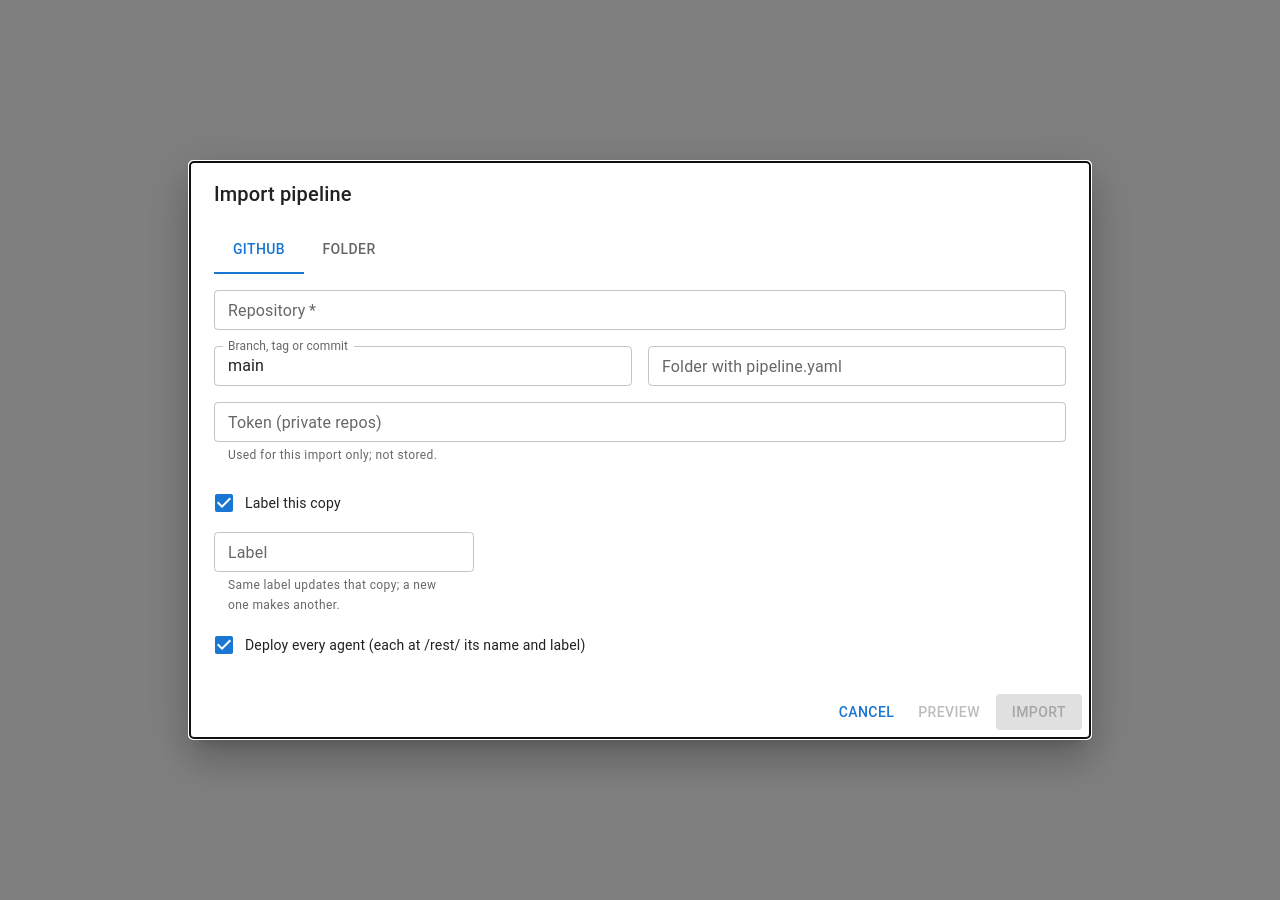
Test case: PipelineImportDialog › says which agents were not deployed before closing
Later steps or results of the test are not shown.
In the field labelled "Repository *": coordinates (640, 310) 214,290 -> 1066,330, type "a/b"
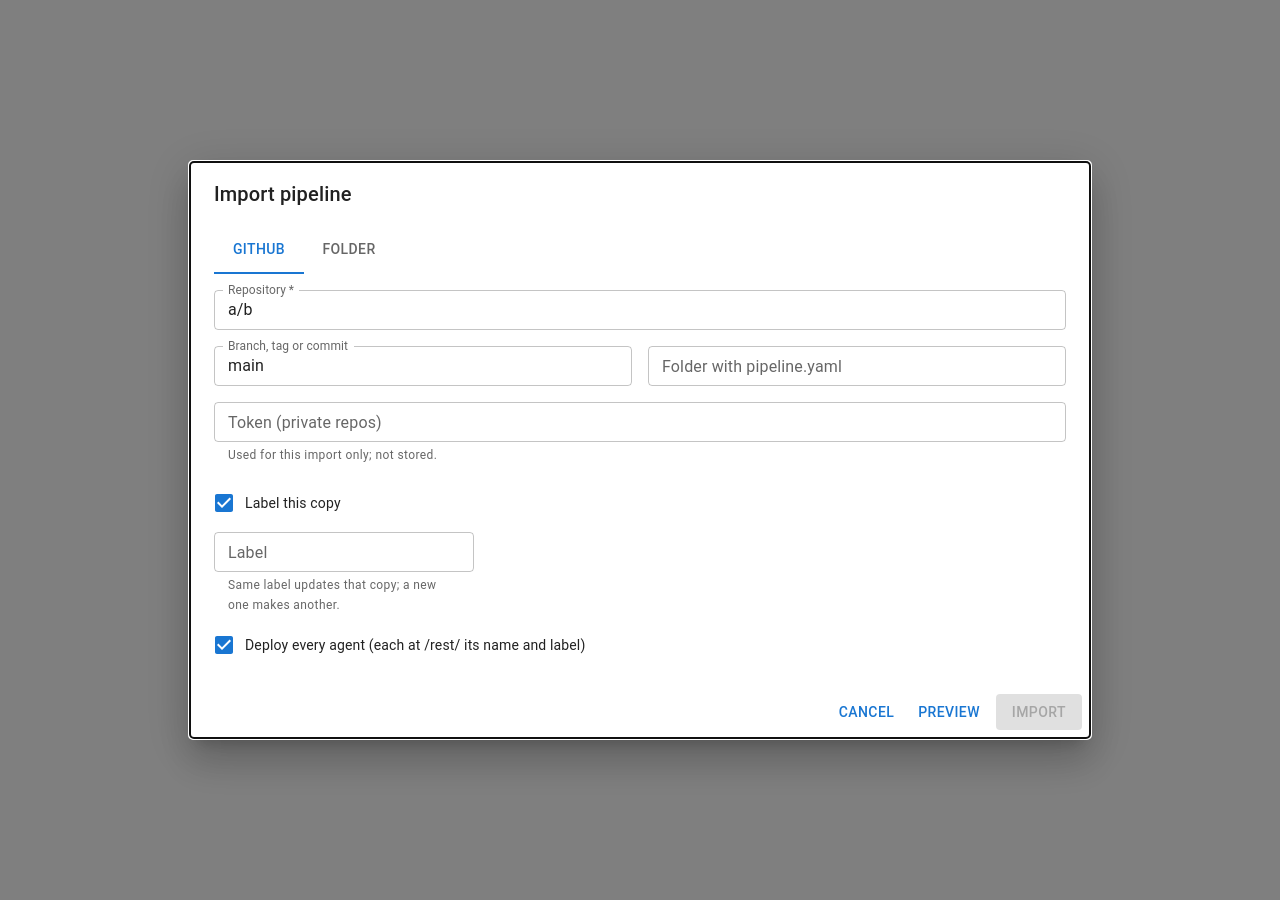
Click the button "Preview": coordinates (949, 712) 910,694 -> 988,730
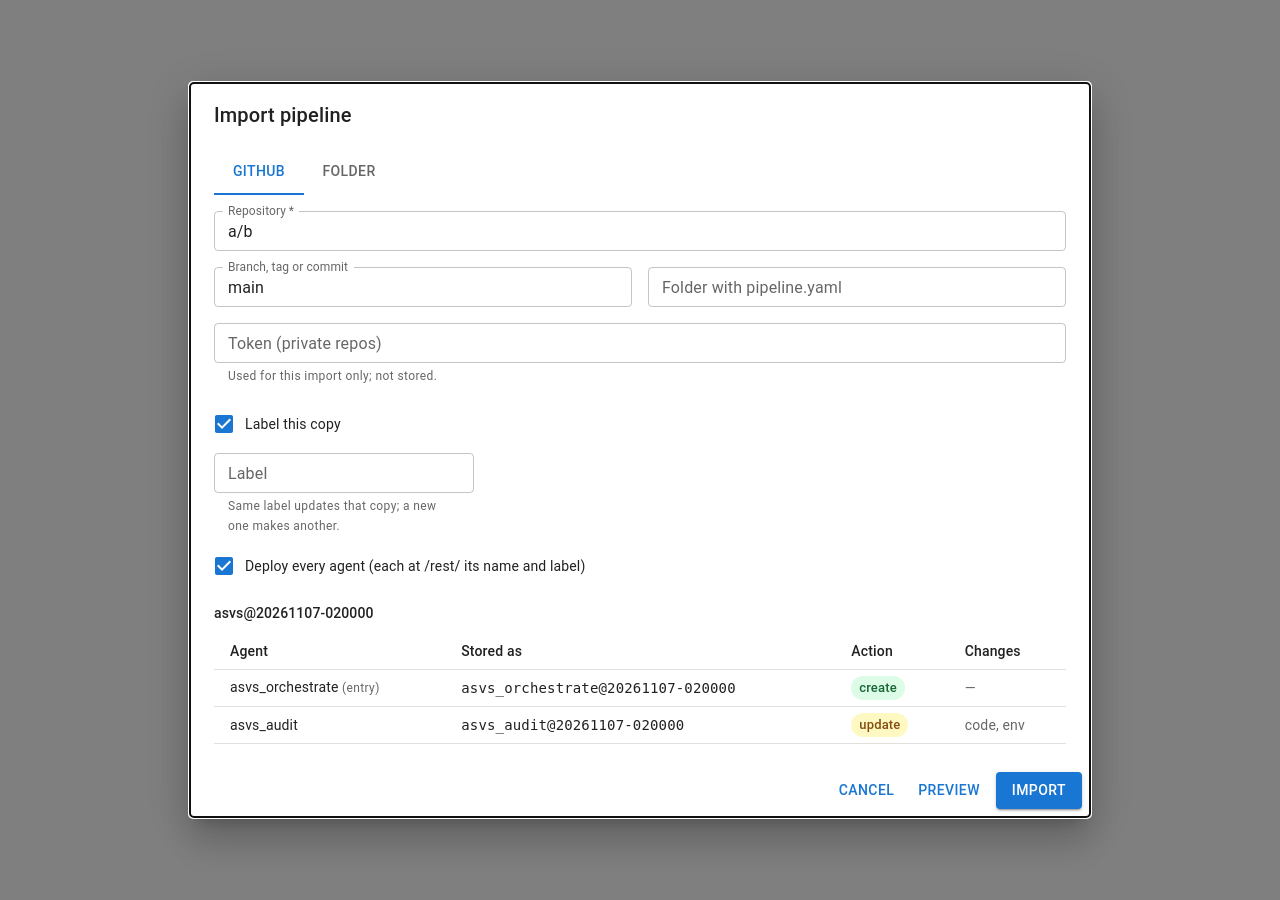
Result: the text "code, env" is shown at 965,717 -> 1025,733
Click the button "Import": coordinates (1039, 790) 996,772 -> 1082,809
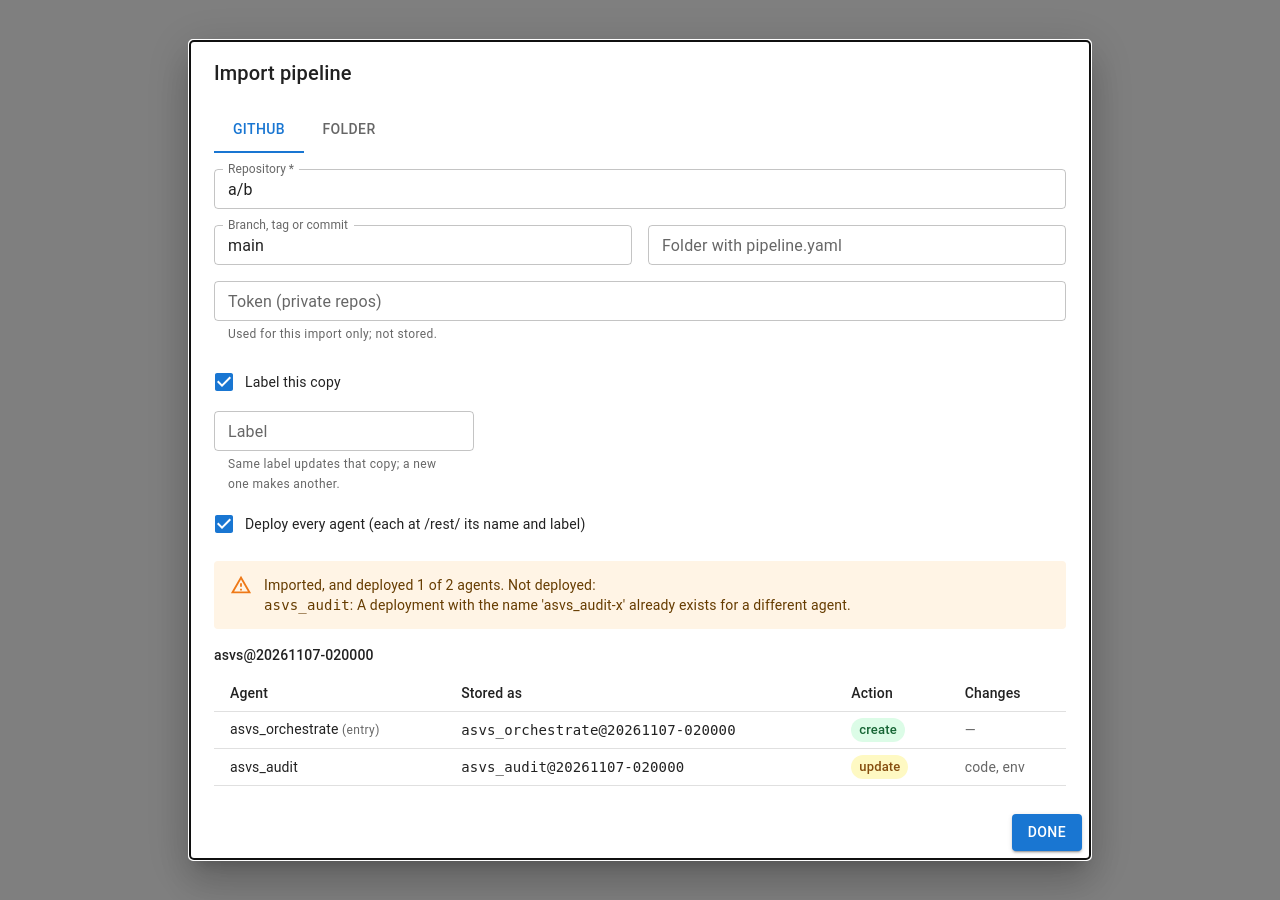
Result: the text "deployed 1 of 2 agents" is shown at 264,567 -> 851,623
Result: the text "already exists for a different agent" is shown at 357,597 -> 851,613
